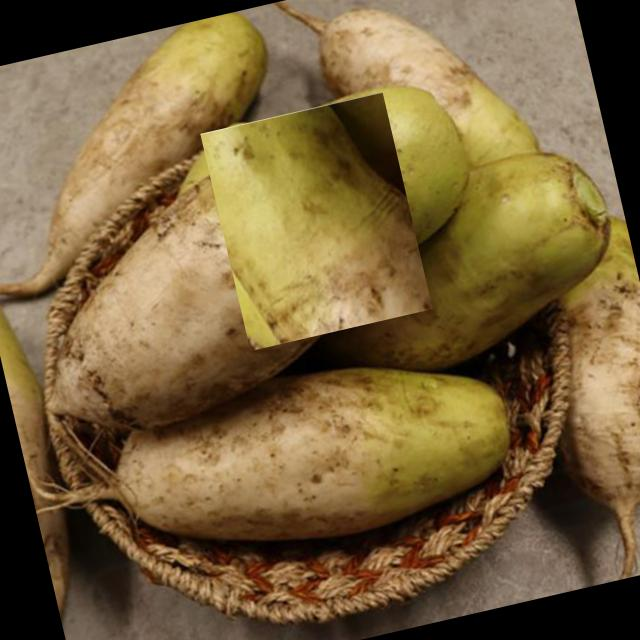radish: (192, 98, 440, 344)
